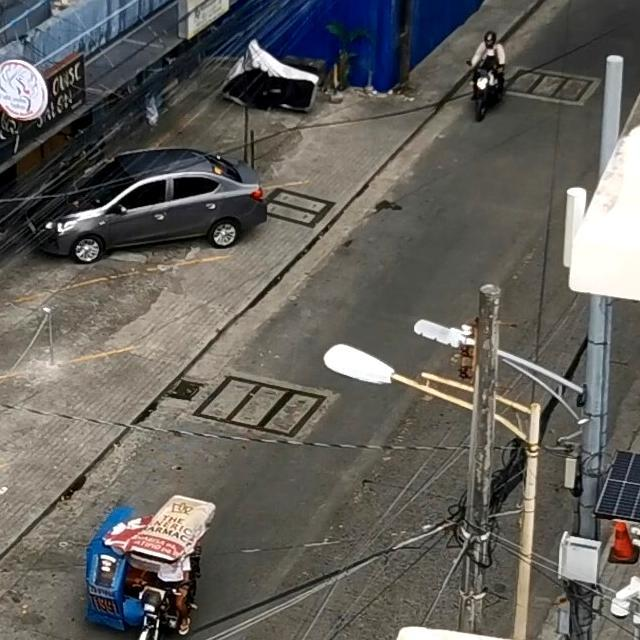Motorcycle: (453, 20, 503, 126)
